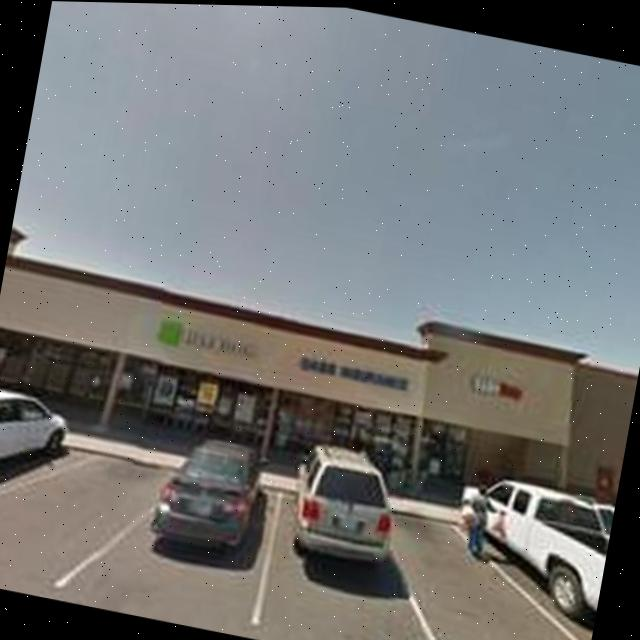building: (0, 225, 640, 533)
